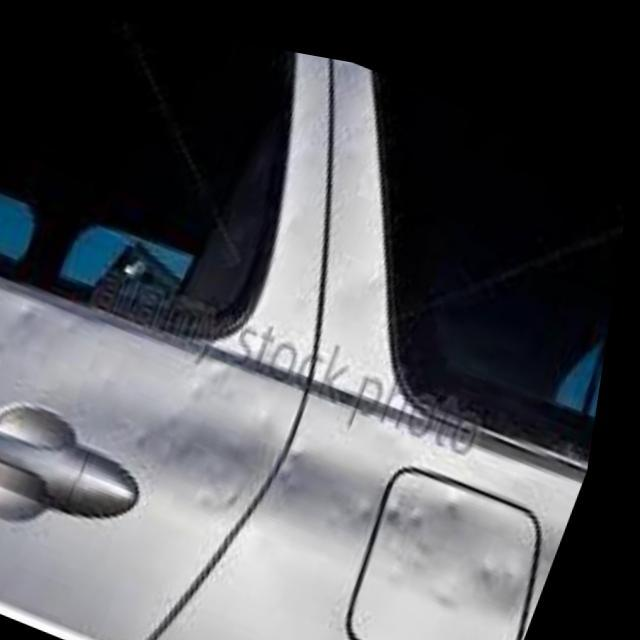rub: (0, 298, 559, 603)
